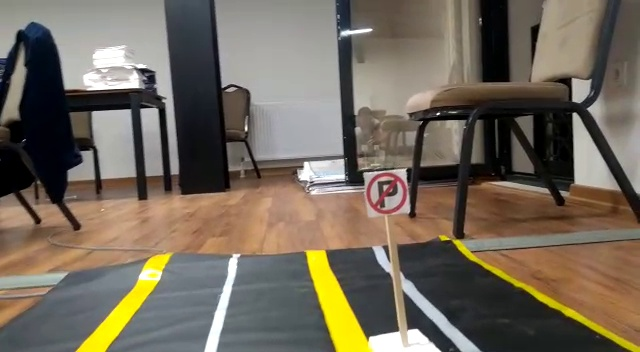park_yapilmaz: (364, 169, 410, 213)
